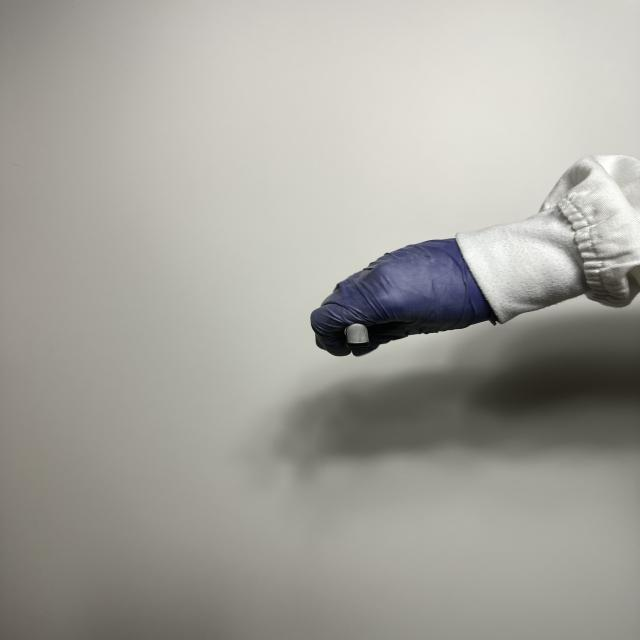gloves_contaminated: (310, 238, 497, 356)
